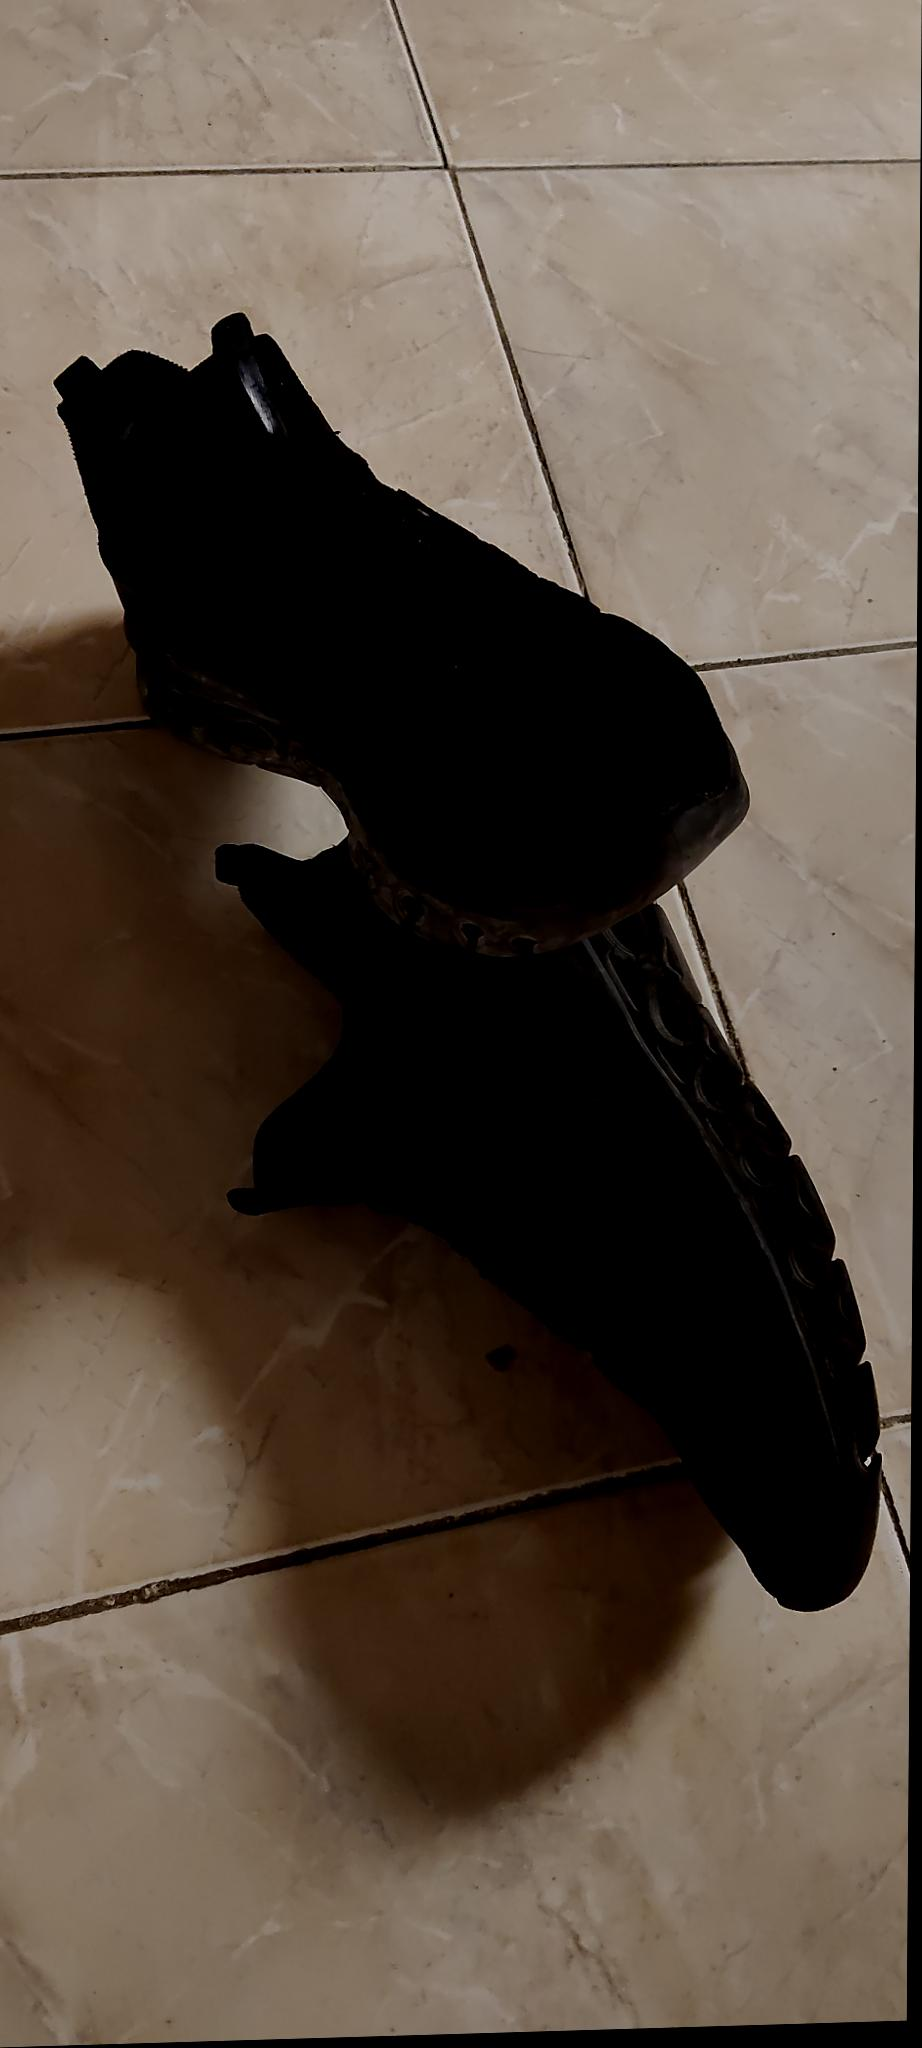Shoes: (210, 819, 889, 1629), (51, 300, 758, 969)
